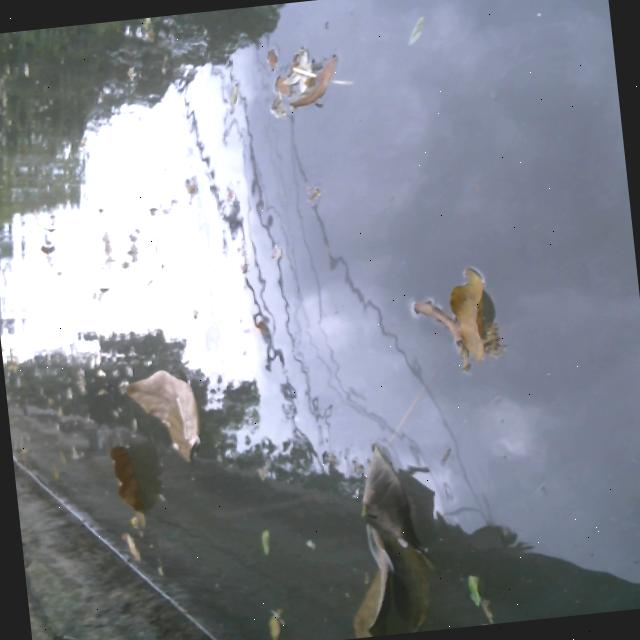Big-leaf: (325, 440, 464, 639), (394, 252, 513, 377), (119, 347, 226, 477), (99, 430, 155, 524)
Small-leaf: (279, 57, 353, 123), (456, 565, 508, 627), (114, 528, 149, 566), (251, 527, 283, 564), (259, 612, 298, 640)
